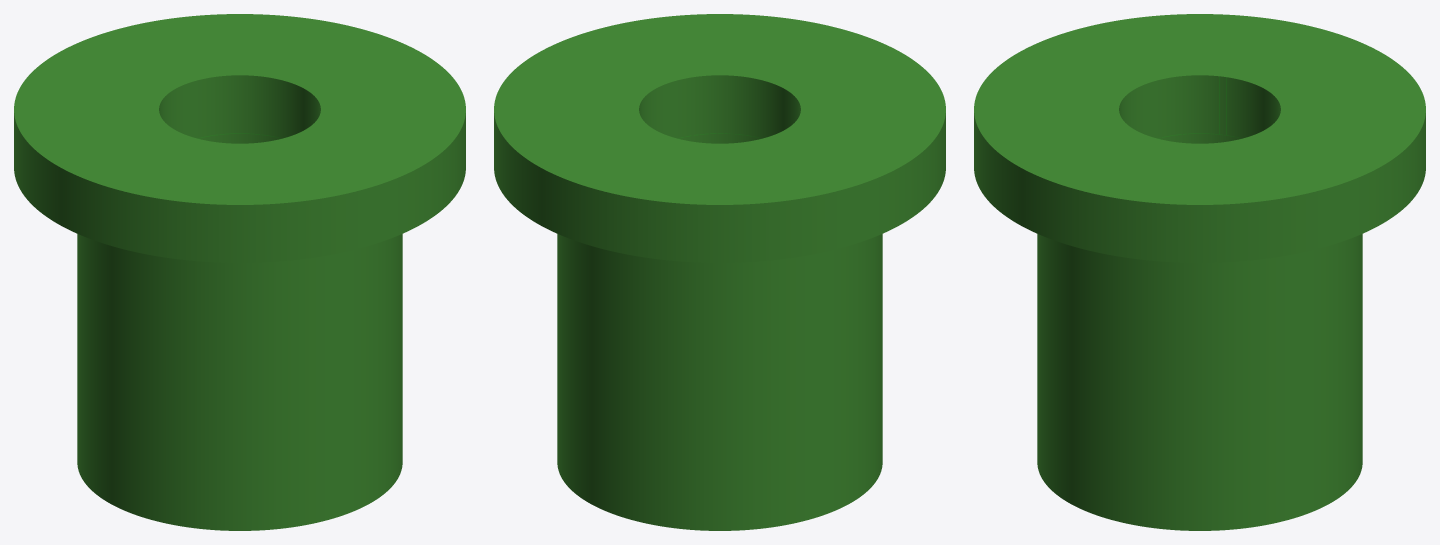
File: Warp pipe.fbx
3 renders of one model, left to right at view 1: azimuth 30°, elevation 25°; view 2: azimuth 150°, elevation 25°; view 3: azimuth 270°, elevation 25°, orthographic.
Visible parts, largest first — view 1: Cylinder; view 2: Cylinder; view 3: Cylinder.
Boxes of the visible parts, <box> form: Cylinder: <box>14,14,465,530</box>; Cylinder: <box>494,14,945,530</box>; Cylinder: <box>974,14,1425,530</box>.
Size of the model in its own units: 278 by 239 by 278.
